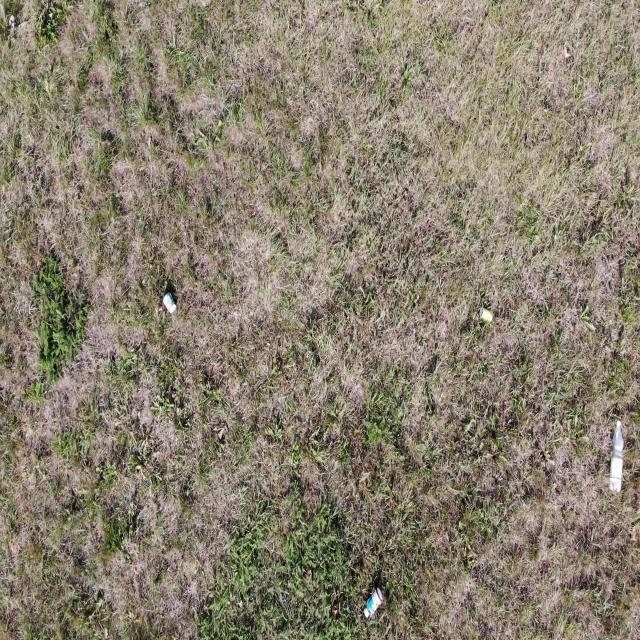rubbish: (608, 422, 624, 492), (364, 586, 384, 617), (160, 289, 177, 313), (480, 307, 493, 323)
